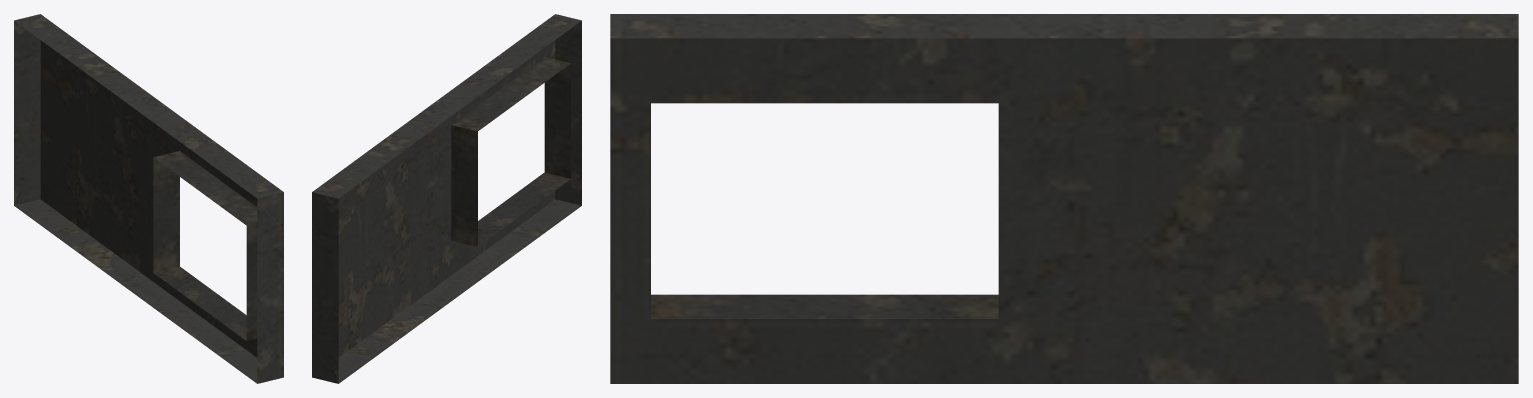
The model's file is Hori_Long_WallTrims.FBX.
The picture shows the model from 3 angles, left to right: view 1: azimuth 30°, elevation 25°; view 2: azimuth 150°, elevation 25°; view 3: azimuth 270°, elevation 25°; orthographic projection. The views are drawn at different scales.
Parts seen in each view (by area): view 1: Hori_Long_WallTrims; view 2: Hori_Long_WallTrims; view 3: Hori_Long_WallTrims.
Boxes of the visible parts, x1=… form: Hori_Long_WallTrims: x1=14, y1=14, x2=283, y2=383; Hori_Long_WallTrims: x1=312, y1=14, x2=581, y2=383; Hori_Long_WallTrims: x1=610, y1=14, x2=1518, y2=383.
Size of the model in its own units: 35 by 233 by 555.
